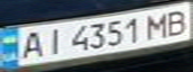1: (121, 15, 145, 44)
3: (87, 20, 109, 51)
4: (66, 21, 90, 53)
5: (106, 17, 127, 47)
A: (12, 28, 48, 61)
B: (160, 7, 193, 37)
I: (39, 25, 69, 56)
M: (139, 10, 175, 40)
